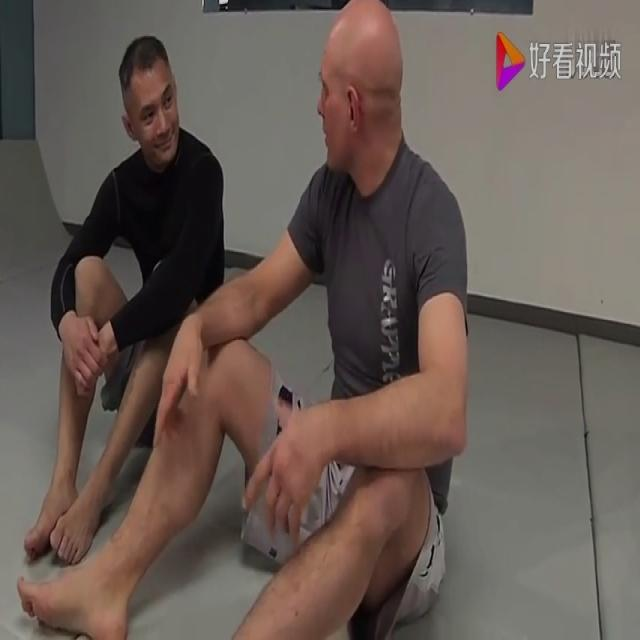non-fight: (18, 0, 470, 640), (23, 34, 226, 564)
